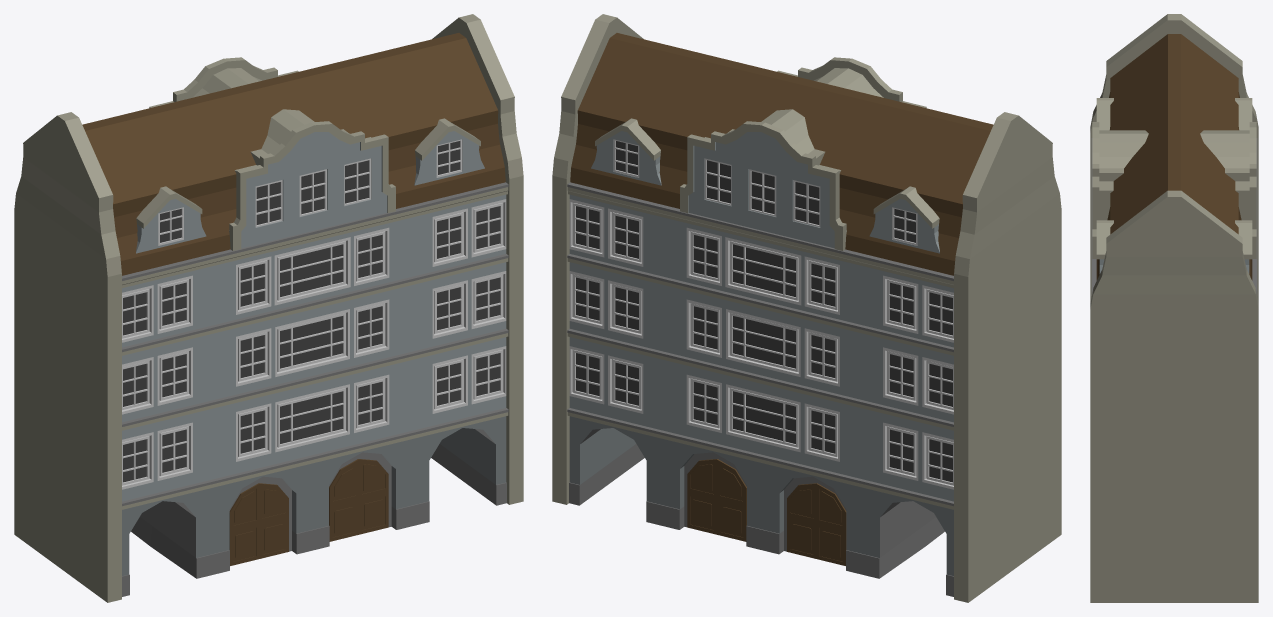
File: Large Town House.glb
3 renders of one model, left to right at view 1: azimuth 30°, elevation 25°; view 2: azimuth 150°, elevation 25°; view 3: azimuth 270°, elevation 25°, orthographic. The views are drawn at different scales.
Parts seen in each view (by area): view 1: Building2_Large; view 2: Building2_Large; view 3: Building2_Large.
Part boxes in pixels (x1,y1,x2,y2): Building2_Large: (14,14,523,602); Building2_Large: (552,14,1061,602); Building2_Large: (1090,14,1258,602).
Bounding box in the file's own units: 5.72 × 5.92 × 2.22.
